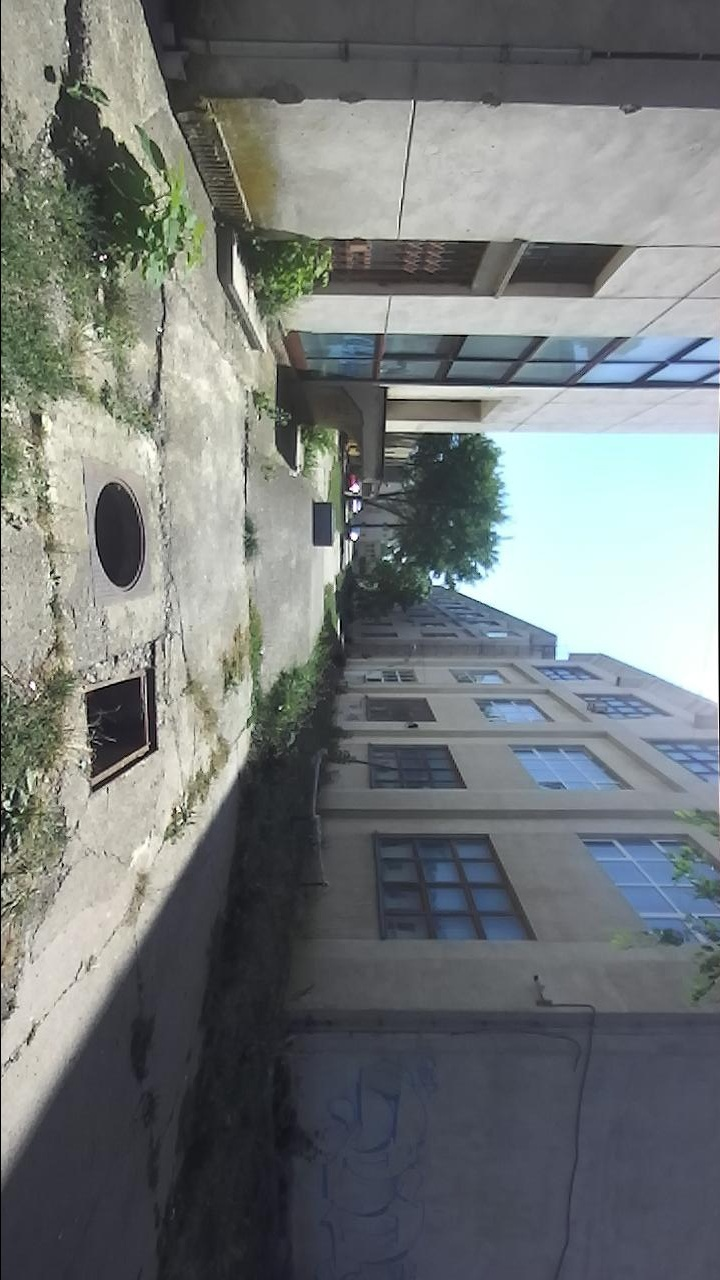drain: (81, 660, 164, 800), (91, 470, 149, 595)
